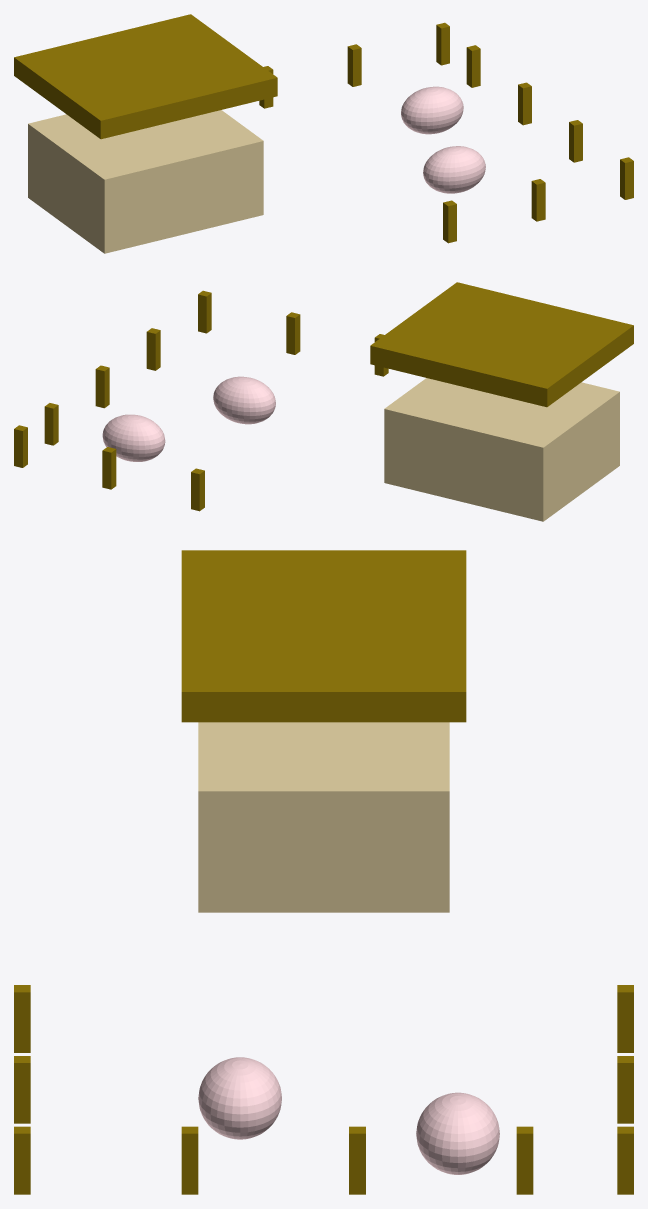
File: pig_farm.glb
The picture shows the model from 3 angles, top to bottom: view 1: azimuth 30°, elevation 25°; view 2: azimuth 150°, elevation 25°; view 3: azimuth 270°, elevation 25°; orthographic projection. The views are drawn at different scales.
Visible parts, largest first — view 1: PigFarm; view 2: PigFarm; view 3: PigFarm.
Part boxes in pixels (x1,y1,x2,y2): PigFarm: (14, 14, 633, 253); PigFarm: (14, 282, 633, 521); PigFarm: (14, 550, 633, 1194).
Bounding box in the file's own units: 0.545 × 0.1875 × 0.37.
